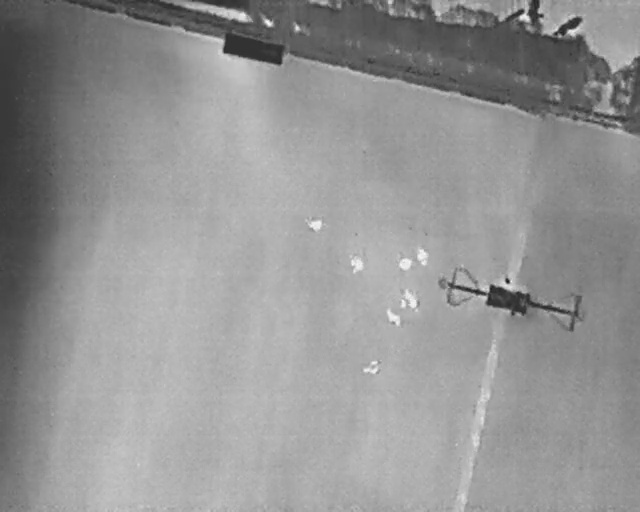Person: (392, 285, 422, 317), (381, 305, 407, 331), (412, 247, 433, 268), (362, 359, 383, 375), (349, 254, 363, 275), (306, 216, 323, 233), (397, 257, 413, 271)
